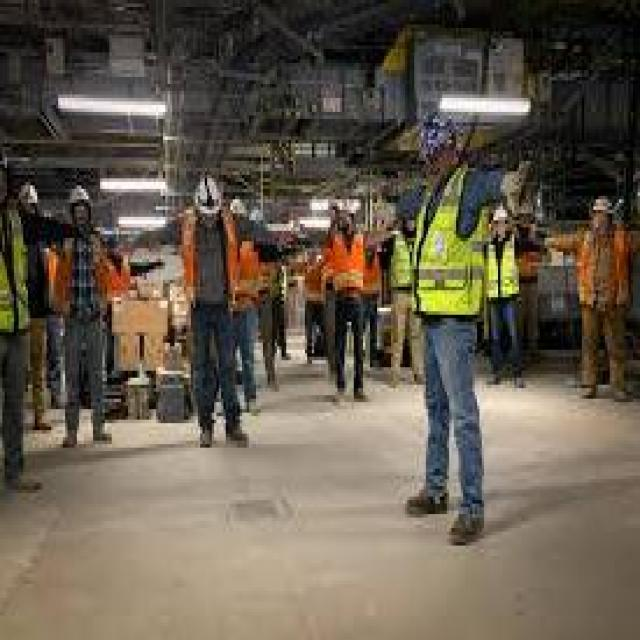Reflective-Jacket: (407, 161, 491, 322), (0, 206, 35, 340), (324, 231, 374, 304), (482, 234, 524, 308)
Safety-Helmet: (410, 109, 466, 164), (63, 178, 95, 214), (16, 175, 44, 213), (489, 199, 514, 231), (589, 189, 614, 220)
